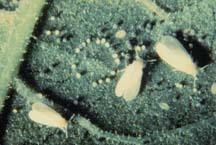whitefly: (153, 33, 206, 89), (112, 49, 153, 104), (28, 102, 73, 136)
